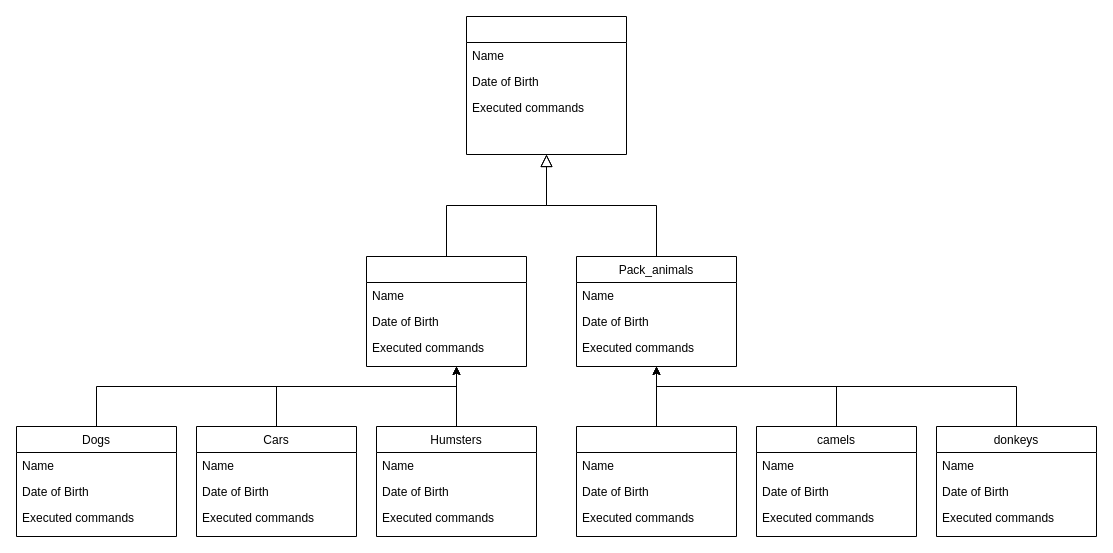
Some shapes in this 1113 by 553 pixel diagram are drawn without their labels. Each missing label, with the box of its shape:
Animals: (466, 16, 626, 154)
Horses: (576, 426, 736, 536)
Pets: (366, 256, 526, 366)
